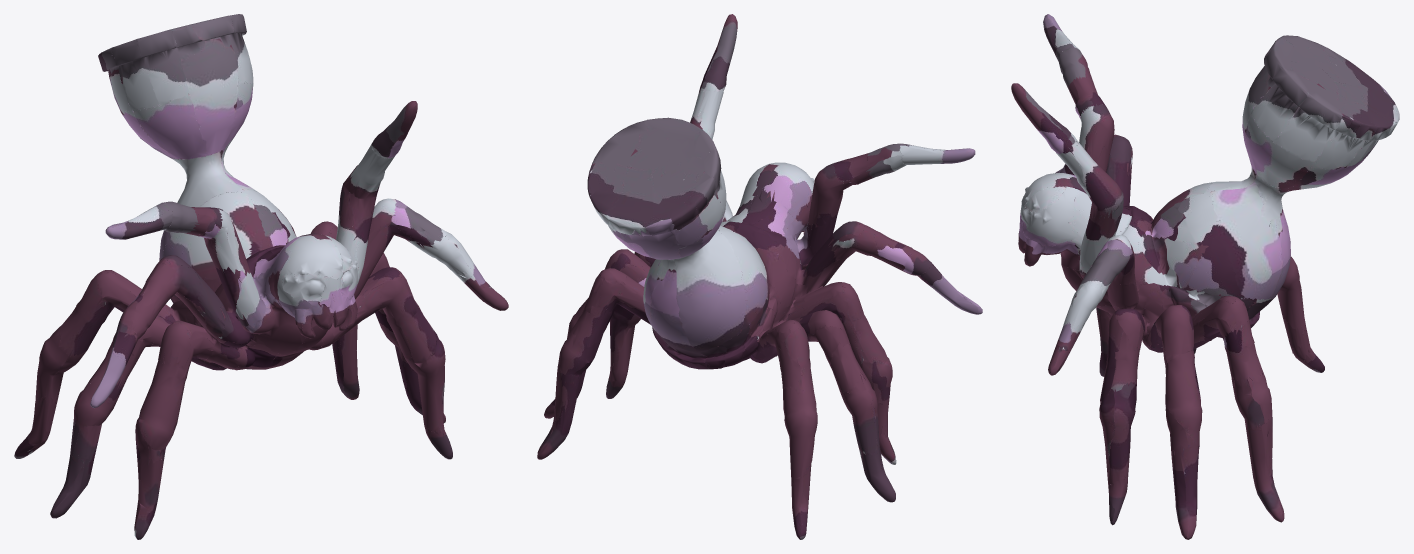
The picture shows the model from 3 angles, left to right: view 1: azimuth 30°, elevation 25°; view 2: azimuth 150°, elevation 25°; view 3: azimuth 270°, elevation 25°; orthographic projection. The views are drawn at different scales.
Parts seen in each view (by area): view 1: Mesh_0; view 2: Mesh_0; view 3: Mesh_0.
Part boxes in pixels (x1,y1,x2,y2): Mesh_0: (14,14,508,539); Mesh_0: (537,14,982,539); Mesh_0: (1011,14,1399,539).
Bounding box in the file's own units: 1.9 × 1.79 × 1.57.
Materials: 1 (1 with a texture image).
